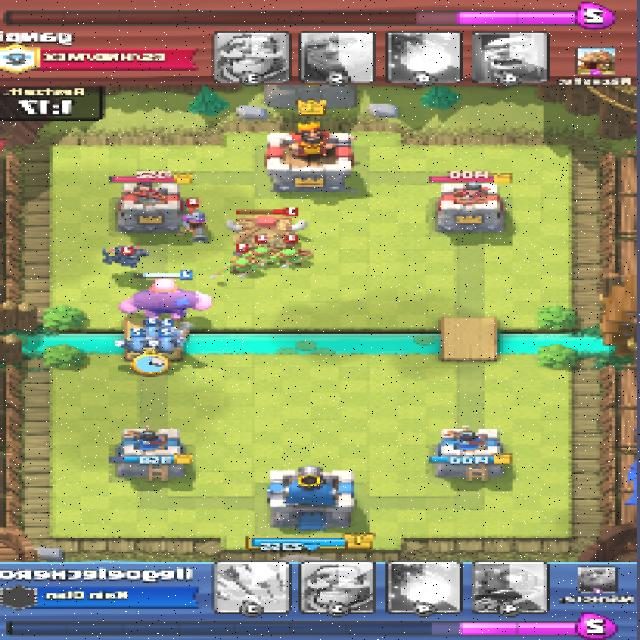Enemy-GoblinHut: (227, 215, 306, 258)
Enemy-MiniPEKKA: (98, 244, 149, 270)
Enemy-Musketeer: (176, 209, 213, 242)
Enemy-SpearGoblin: (270, 245, 312, 267), (214, 258, 252, 280), (249, 247, 274, 267)
Player-Giant: (120, 279, 214, 319)
Player-Minion: (117, 332, 148, 352), (153, 333, 180, 353), (137, 324, 162, 340)
Player-Musketeer: (158, 323, 199, 355)
